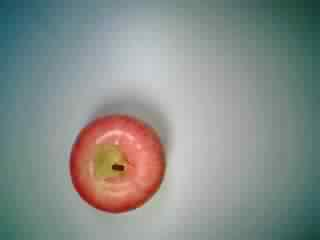apple: (65, 111, 171, 215)
